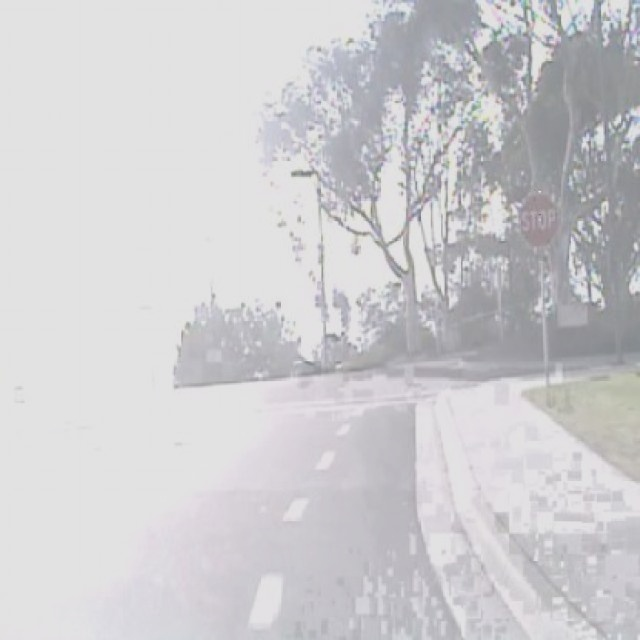stop: (517, 191, 558, 248)
